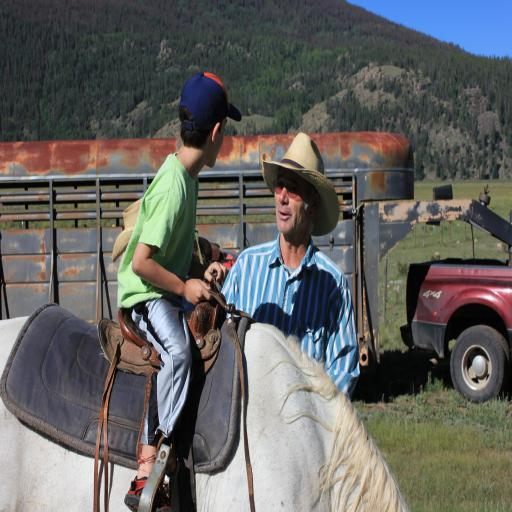Horse: (0, 316, 412, 512)
